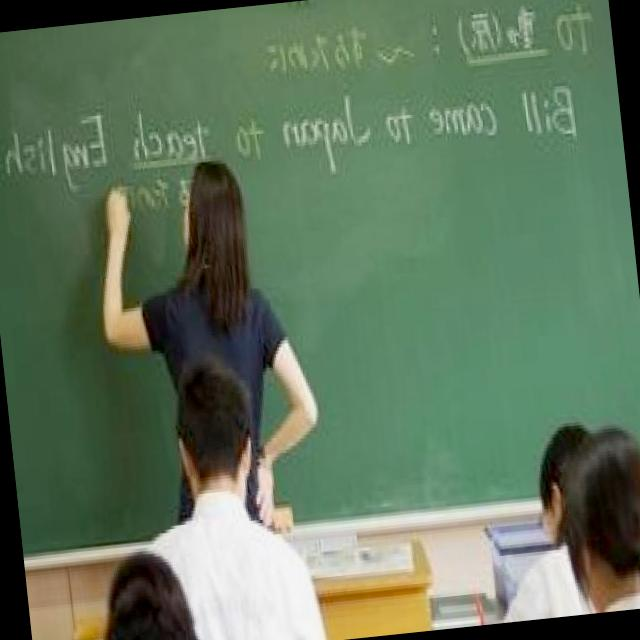no_vest: (175, 482, 325, 640), (129, 268, 294, 370)
